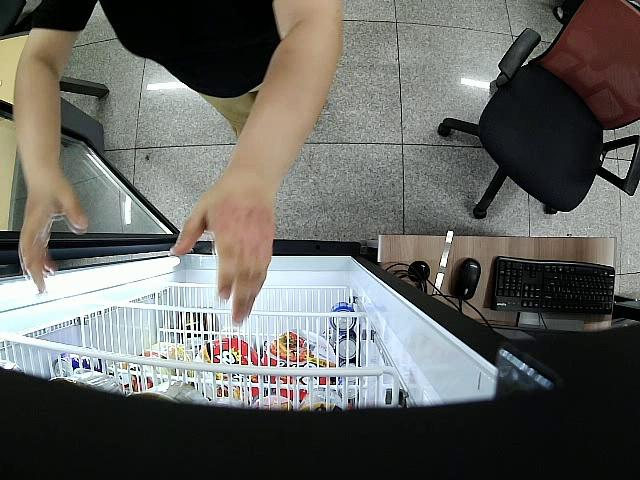00_hand: (169, 167, 275, 325), (17, 171, 90, 294)
